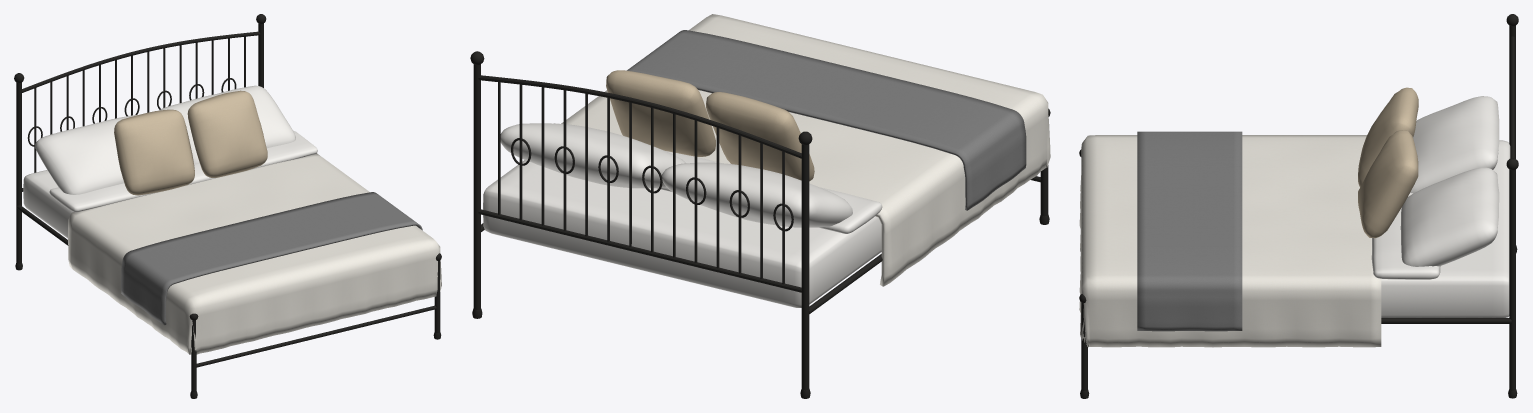
File: cama_forja_160.glb
3 renders of one model, left to right at view 1: azimuth 30°, elevation 25°; view 2: azimuth 150°, elevation 25°; view 3: azimuth 270°, elevation 25°, orthographic. The views are drawn at different scales.
Parts seen in each view (by area): view 1: cama_forja_160; view 2: cama_forja_160; view 3: cama_forja_160.
Boxes of the visible parts, x1=… form: cama_forja_160: x1=14, y1=14, x2=441, y2=398; cama_forja_160: x1=470, y1=14, x2=1050, y2=398; cama_forja_160: x1=1079, y1=14, x2=1518, y2=398.
Bounding box in the file's own units: 1.75 × 1.25 × 2.09.
5 materials, 4 textured.
